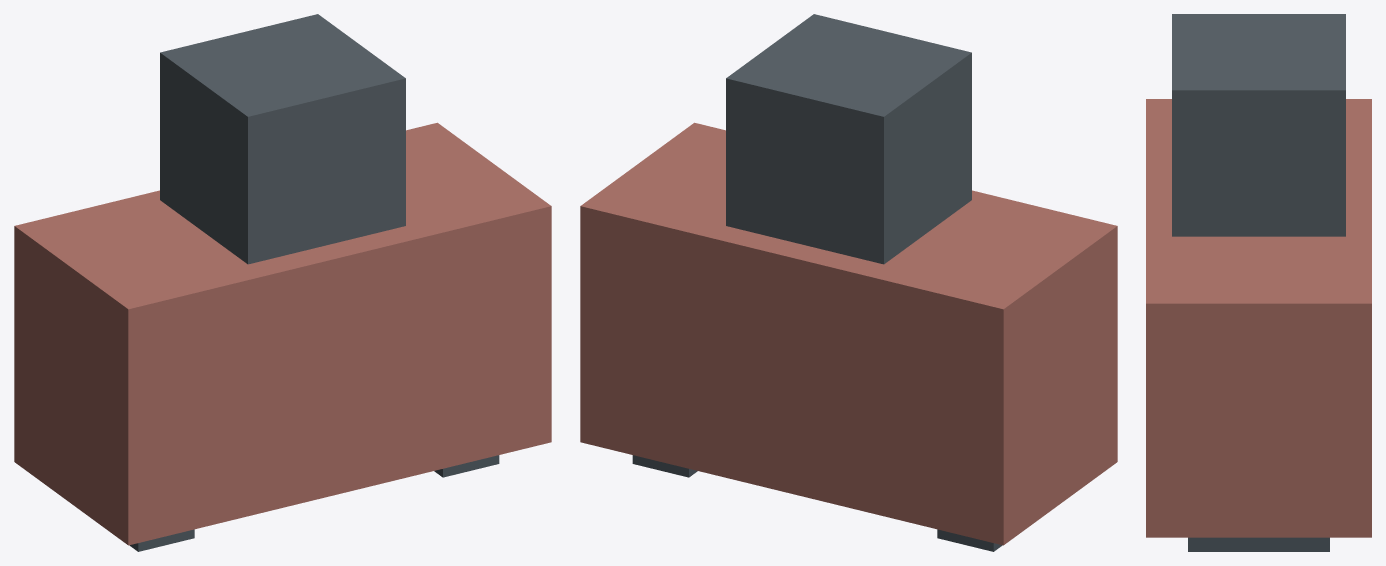
File: air_compressor.glb
3 views of the same model, side by side, from view 1: azimuth 30°, elevation 25°; view 2: azimuth 150°, elevation 25°; view 3: azimuth 270°, elevation 25° (orthographic).
Parts seen in each view (by area): view 1: body; view 2: body; view 3: body.
Boxes of the visible parts, x1,y1,x2,y2 form: body: (14,14,551,551); body: (580,14,1117,551); body: (1146,14,1371,551).
Bounding box in the file's own units: 0.75 × 0.705 × 0.35.
